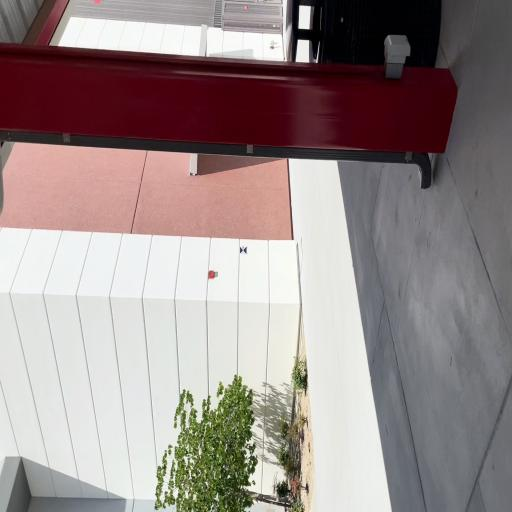target9: (240, 245, 247, 254)
